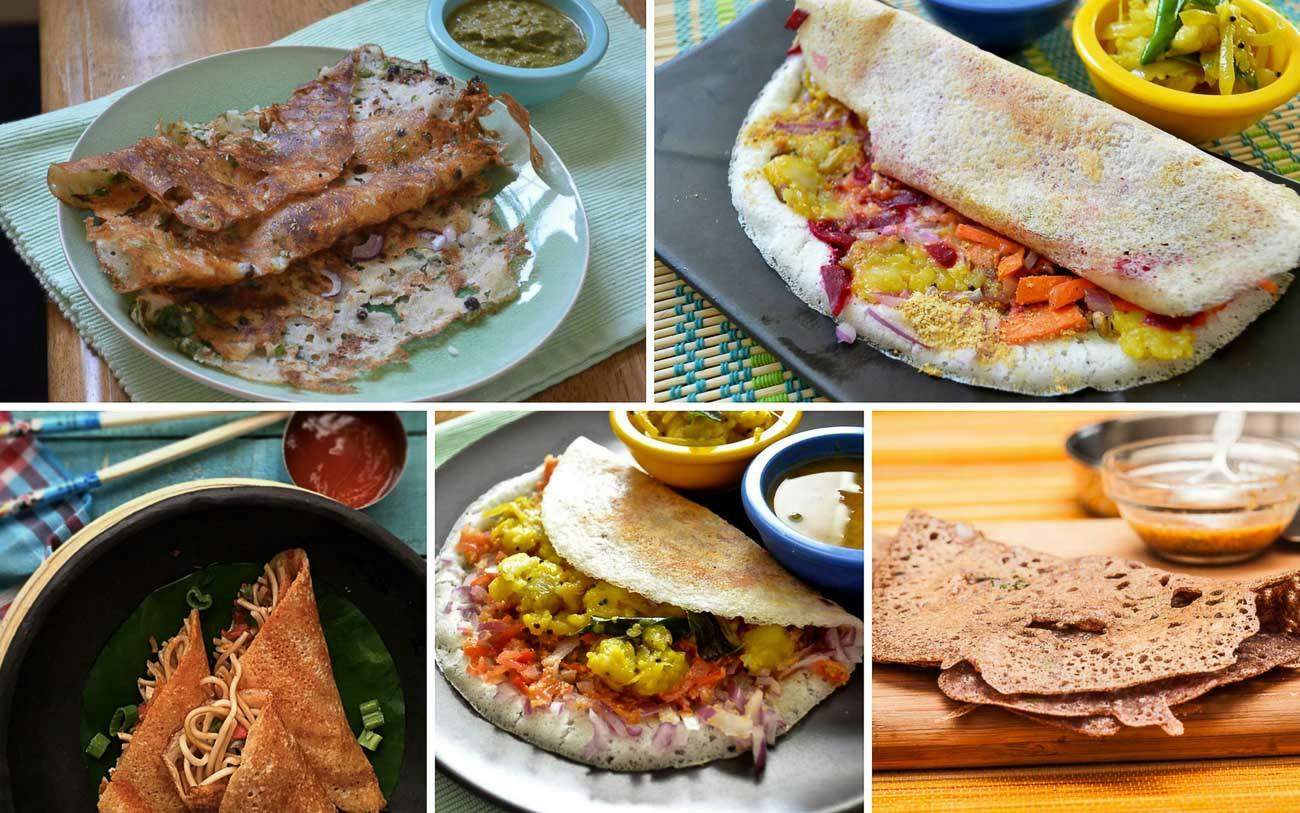Dosa: (730, 0, 1300, 397), (437, 437, 858, 766), (41, 45, 504, 290), (873, 504, 1300, 742), (137, 170, 528, 392), (221, 547, 382, 813), (97, 610, 213, 813), (165, 686, 334, 813)
